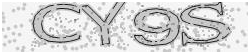9: (132, 7, 181, 48)
C: (31, 2, 82, 43)
S: (179, 1, 231, 48)
Y: (81, 1, 127, 48)
